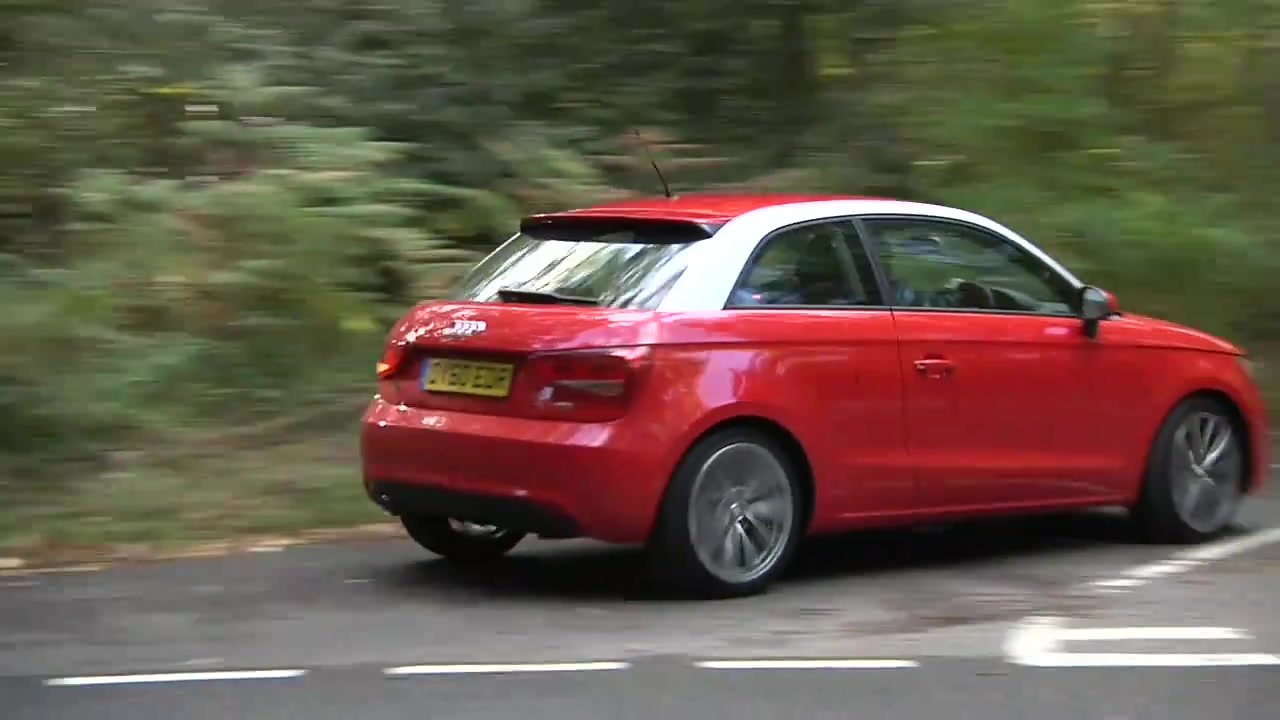car: (353, 186, 1270, 595)
